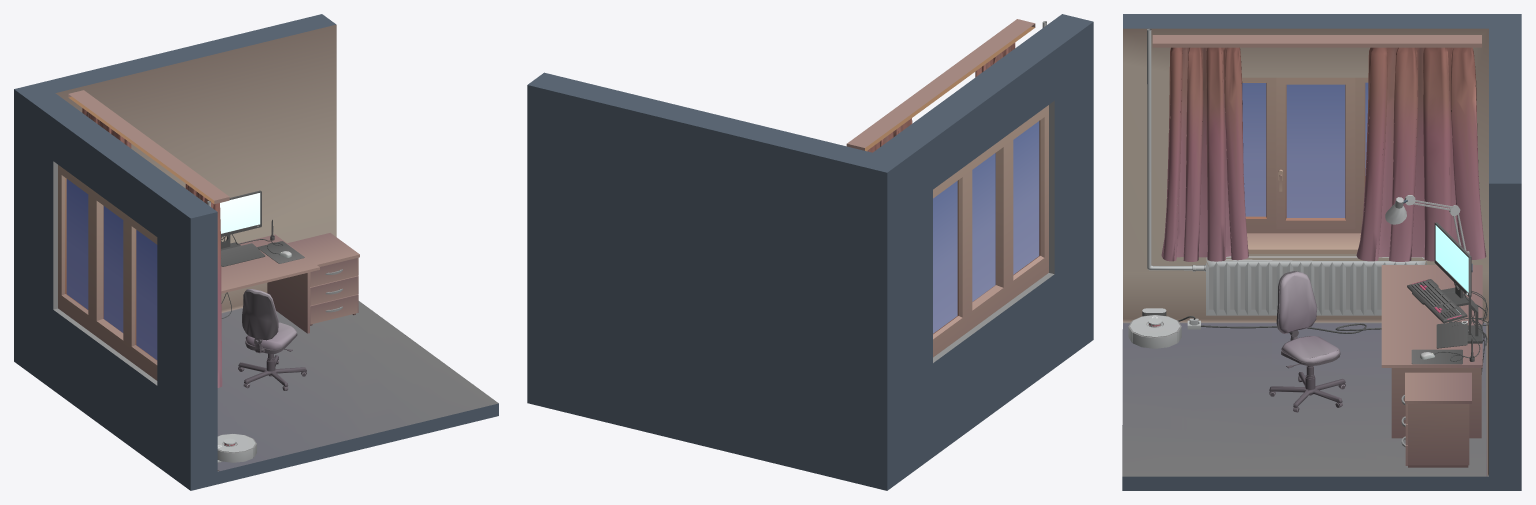
File: optimized-room.glb
3 renders of one model, left to right at view 1: azimuth 30°, elevation 25°; view 2: azimuth 150°, elevation 25°; view 3: azimuth 270°, elevation 25°, orthographic. The views are drawn at different scales.
Parts seen in each view (by area): view 1: _________6_blinn1_0, window4_phong1_0, emis_lambert1_0; view 2: _________6_blinn1_0, window4_phong1_0; view 3: _________6_blinn1_0, window4_phong1_0, emis_lambert1_0.
Boxes of the visible parts, x1,y1,x2,y2 form: _________6_blinn1_0: (14,14,498,490); window4_phong1_0: (66,179,157,359); emis_lambert1_0: (218,193,281,447); _________6_blinn1_0: (527,14,1093,490); window4_phong1_0: (933,121,1039,333); _________6_blinn1_0: (1122,14,1521,490); window4_phong1_0: (1242,82,1368,217); emis_lambert1_0: (1152,225,1468,353).
Size of the model in its own units: 6.68 by 5.66 by 6.65.
